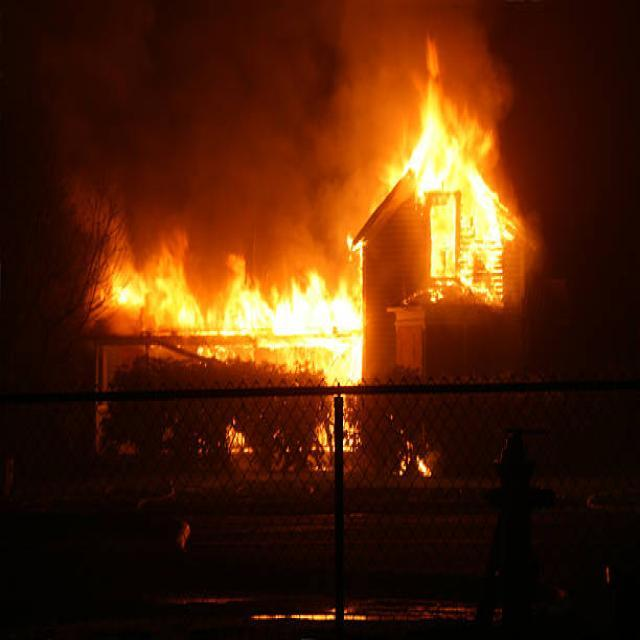Fire: (98, 246, 366, 390), (390, 51, 516, 302)
